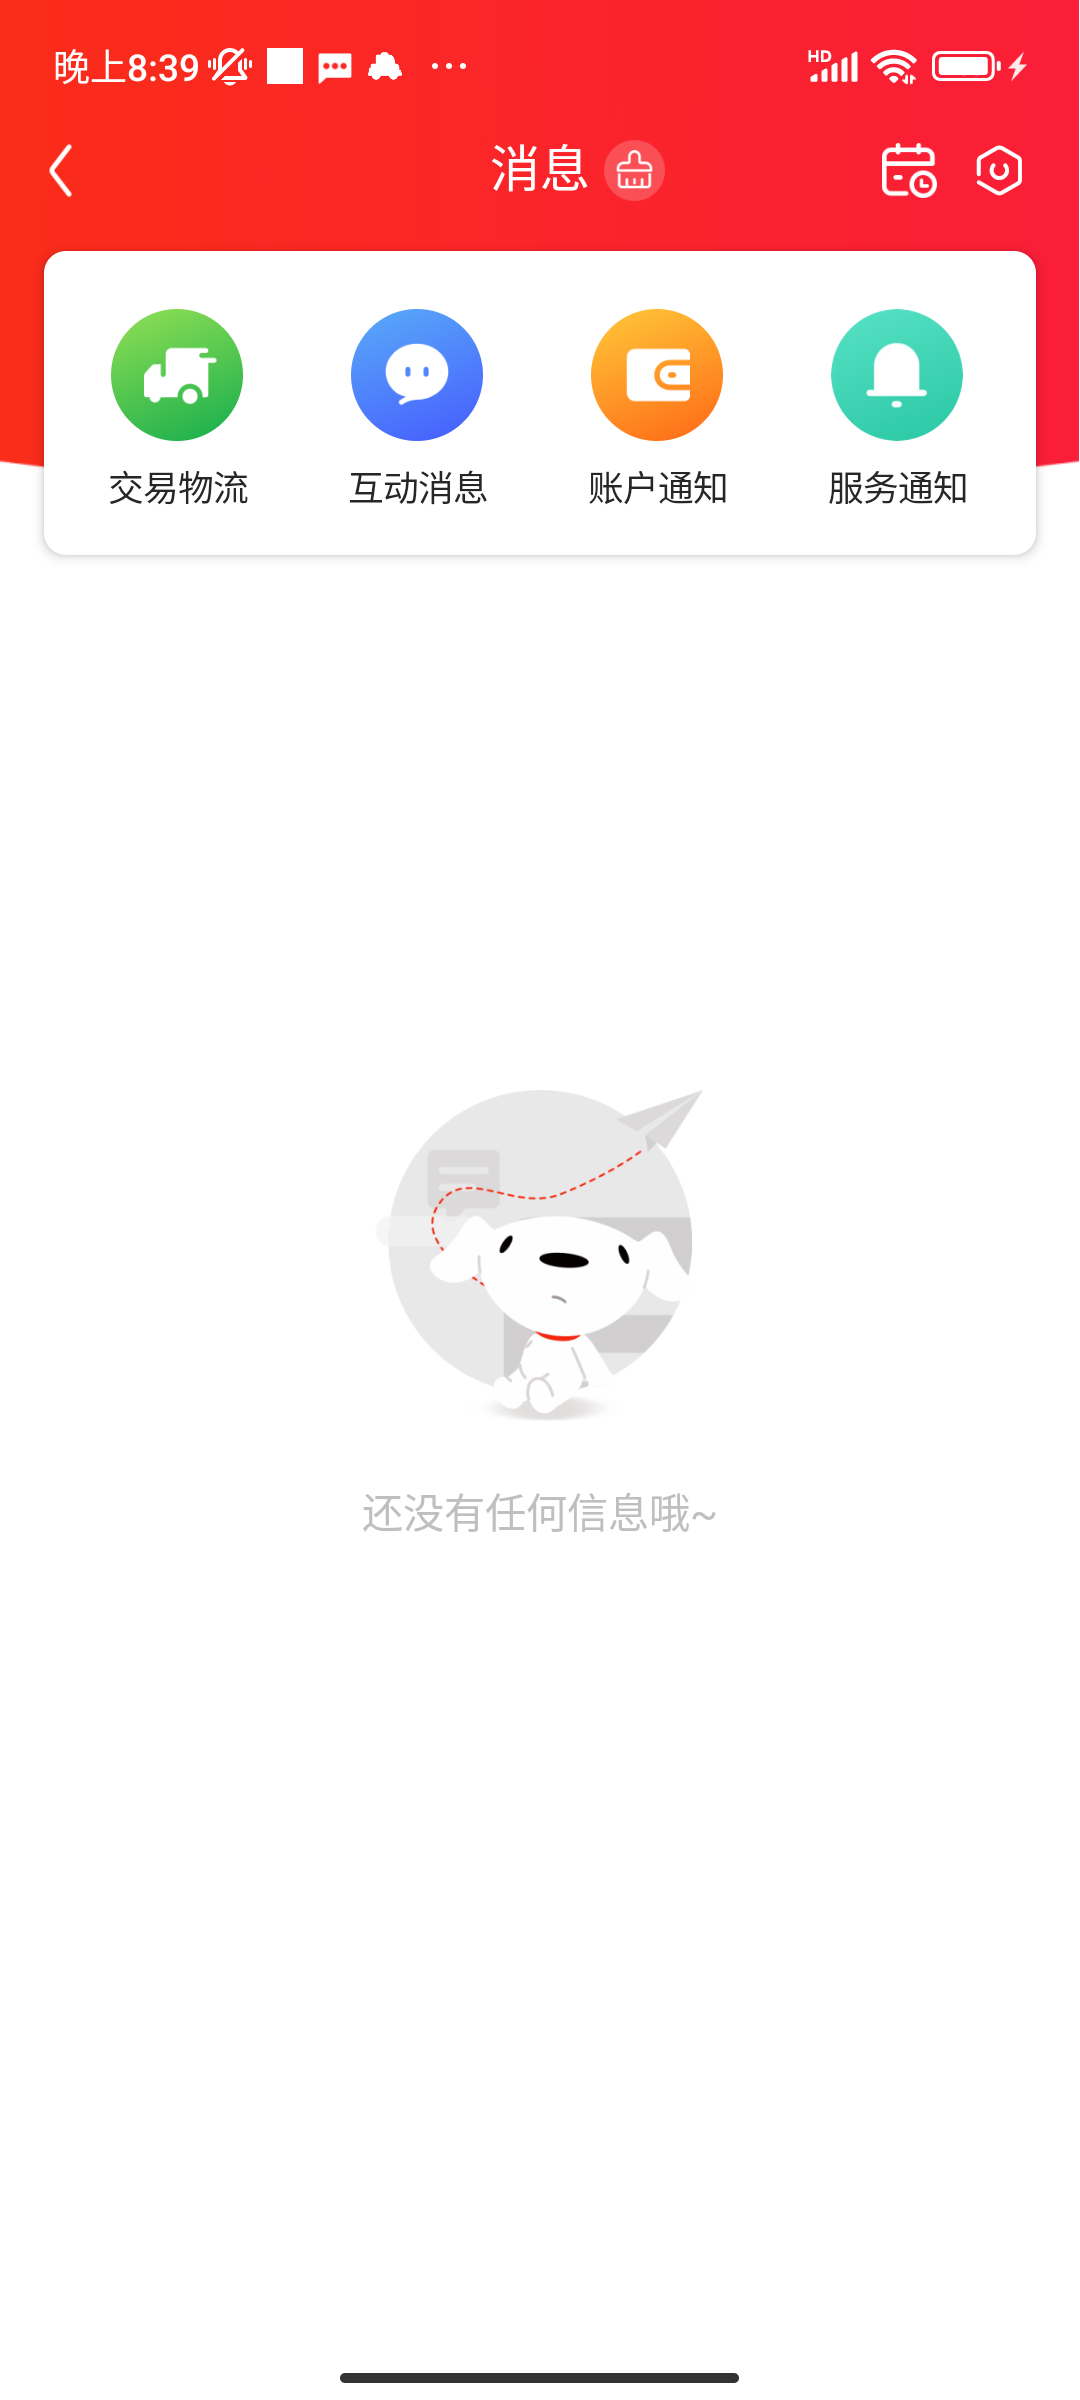ui_group: (802, 279, 1010, 528), (571, 283, 750, 533), (89, 288, 269, 523), (337, 283, 509, 528)
